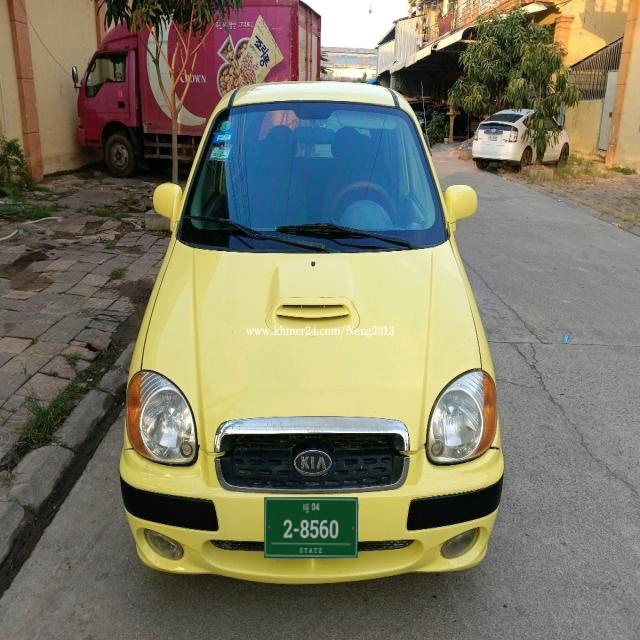Plate Number: (264, 498, 358, 558)
